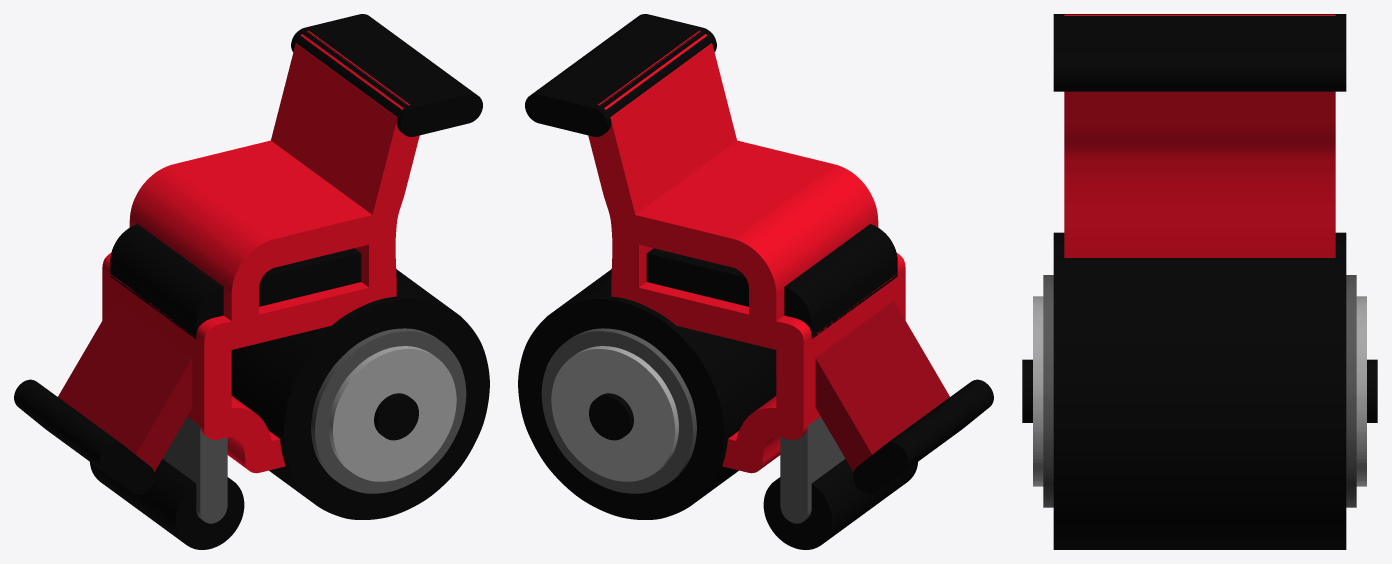
3 renders of one model, left to right at view 1: azimuth 30°, elevation 25°; view 2: azimuth 150°, elevation 25°; view 3: azimuth 270°, elevation 25°, orthographic. The views are drawn at different scales.
Visible parts, largest first — view 1: U+1F9BD_layer03_obj00, U+1F9BD_layer04_obj00, U+1F9BD_layer01_obj00, U+1F9BD_layer00_obj00, U+1F9BD_layer06_obj00, U+1F9BD_layer05_obj00, U+1F9BD_layer02_obj00, U+1F9BD_layer07_obj00; view 2: U+1F9BD_layer03_obj00, U+1F9BD_layer04_obj00, U+1F9BD_layer01_obj00, U+1F9BD_layer00_obj00, U+1F9BD_layer06_obj00, U+1F9BD_layer05_obj00, U+1F9BD_layer02_obj00, U+1F9BD_layer07_obj00; view 3: U+1F9BD_layer04_obj00, U+1F9BD_layer03_obj00, U+1F9BD_layer05_obj00, U+1F9BD_layer06_obj00, U+1F9BD_layer07_obj00.
Boxes of the visible parts, left/top/right/bottom form: U+1F9BD_layer03_obj00: left=102, top=30, right=419, bottom=473; U+1F9BD_layer04_obj00: left=231, top=14, right=489, bottom=519; U+1F9BD_layer01_obj00: left=14, top=224, right=361, bottom=549; U+1F9BD_layer00_obj00: left=58, top=300, right=192, bottom=471; U+1F9BD_layer06_obj00: left=329, top=346, right=456, bottom=481; U+1F9BD_layer05_obj00: left=311, top=328, right=466, bottom=493; U+1F9BD_layer02_obj00: left=162, top=416, right=227, bottom=523; U+1F9BD_layer07_obj00: left=374, top=393, right=418, bottom=440; U+1F9BD_layer03_obj00: left=588, top=30, right=905, bottom=473; U+1F9BD_layer04_obj00: left=518, top=14, right=776, bottom=519; U+1F9BD_layer01_obj00: left=646, top=224, right=993, bottom=549; U+1F9BD_layer00_obj00: left=815, top=300, right=949, bottom=471; U+1F9BD_layer06_obj00: left=551, top=346, right=678, bottom=481; U+1F9BD_layer05_obj00: left=541, top=328, right=696, bottom=493; U+1F9BD_layer02_obj00: left=780, top=416, right=845, bottom=523; U+1F9BD_layer07_obj00: left=589, top=393, right=633, bottom=440; U+1F9BD_layer04_obj00: left=1053, top=14, right=1346, bottom=549; U+1F9BD_layer03_obj00: left=1064, top=14, right=1335, bottom=257; U+1F9BD_layer05_obj00: left=1043, top=275, right=1356, bottom=507; U+1F9BD_layer06_obj00: left=1033, top=296, right=1366, bottom=486; U+1F9BD_layer07_obj00: left=1022, top=359, right=1377, bottom=422.
Bounding box in the file's own units: 0.5577 × 0.5677 × 0.34.
